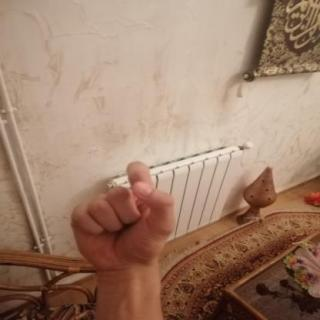FAA: (56, 154, 188, 282)
